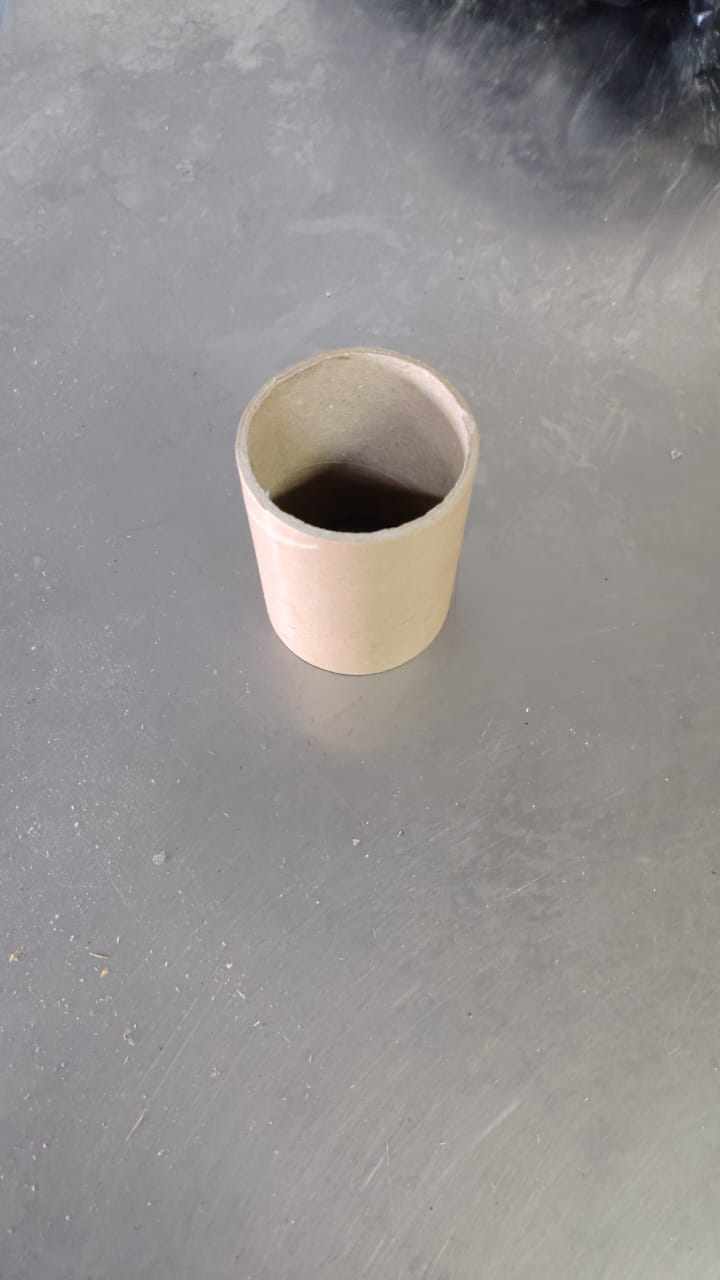Carton: (232, 345, 477, 675)
